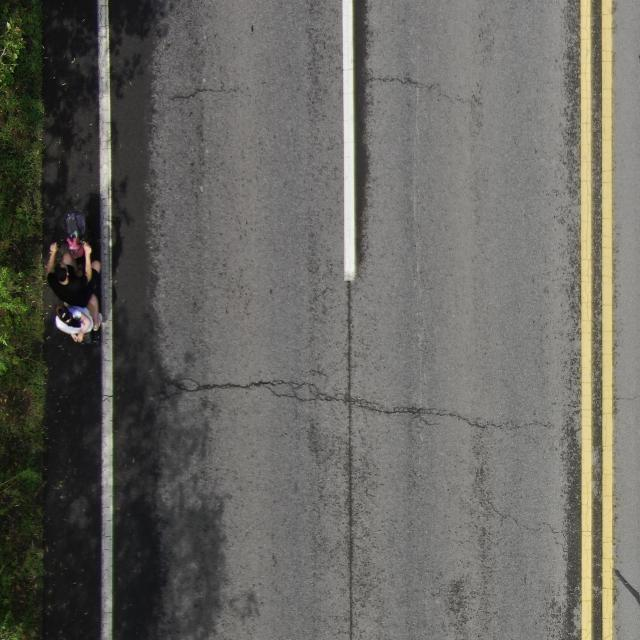GRIETA: (353, 398, 553, 433), (167, 379, 349, 403), (353, 0, 368, 270), (348, 405, 353, 639), (266, 381, 328, 396), (368, 76, 438, 89), (346, 280, 352, 403), (171, 87, 237, 98)
